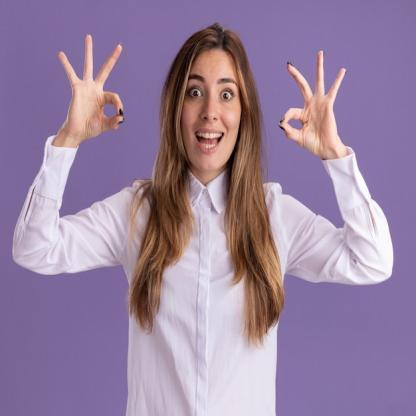ok: (54, 29, 126, 146), (280, 45, 349, 159)
